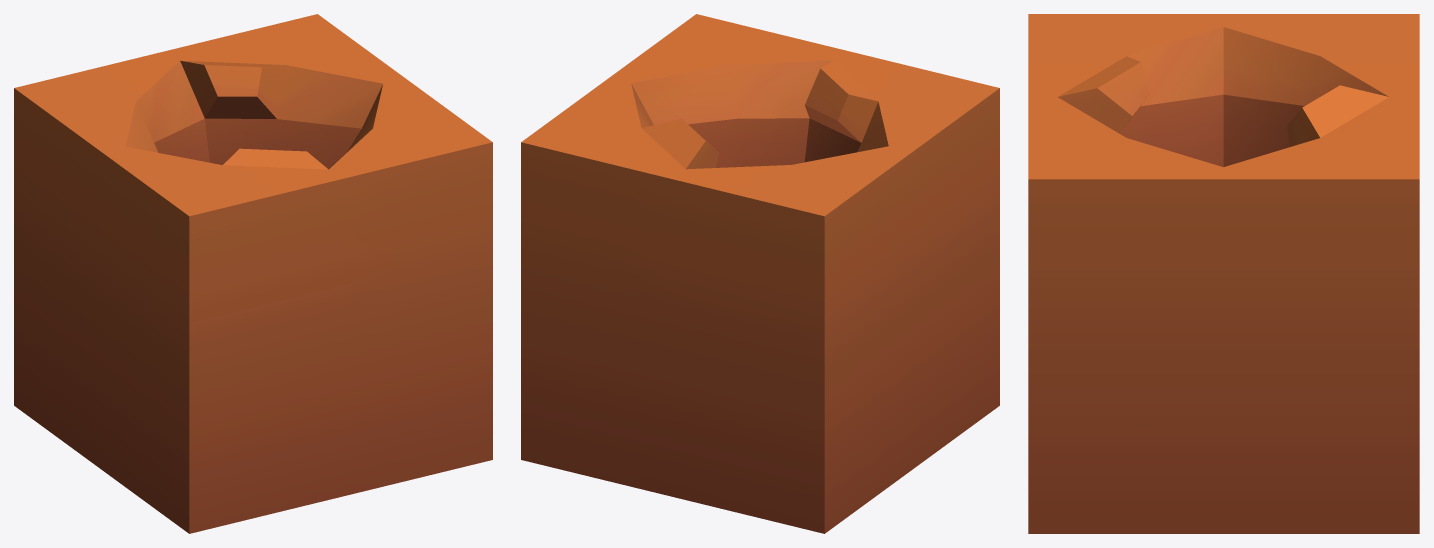
The model's file is kay-terreno-mina.gltf.
3 views of the same model, side by side, from view 1: azimuth 30°, elevation 25°; view 2: azimuth 150°, elevation 25°; view 3: azimuth 270°, elevation 25° (orthographic). The views are drawn at different scales.
Visible parts, largest first — view 1: terrain_mining; view 2: terrain_mining; view 3: terrain_mining.
Part boxes in pixels (bbox=[...]): terrain_mining: bbox=[14, 14, 492, 533]; terrain_mining: bbox=[521, 14, 999, 533]; terrain_mining: bbox=[1028, 14, 1419, 533].
Bounding box in the file's own units: 5.2 × 5.39 × 5.2.
1 material, 1 textured.
